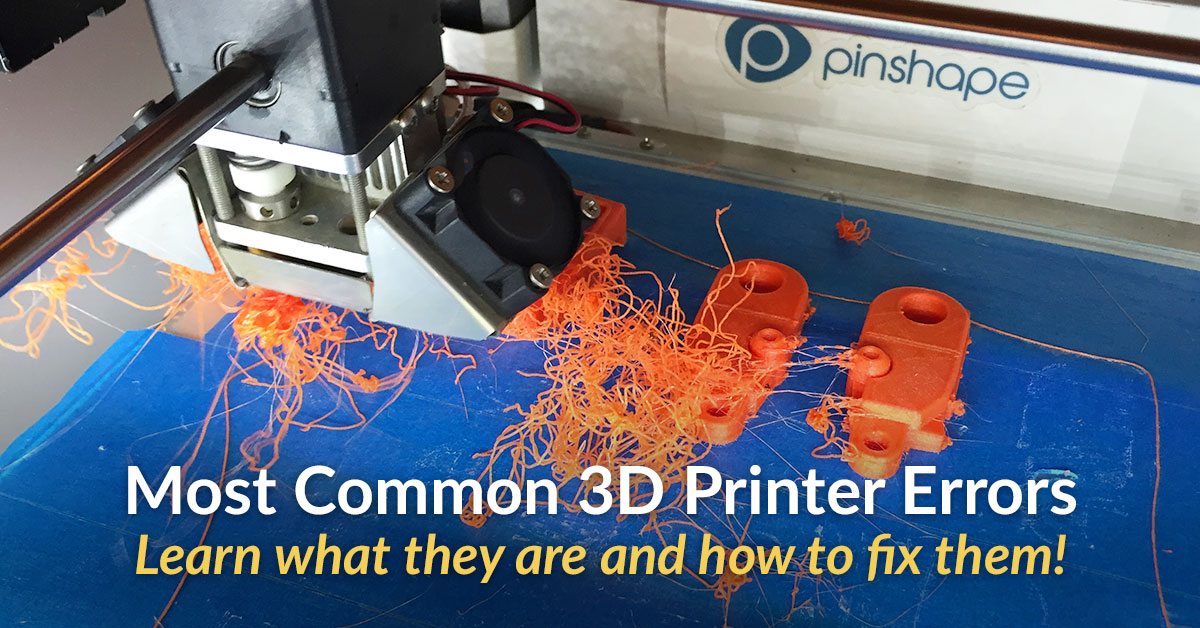fail: (493, 217, 872, 503), (191, 270, 483, 460), (4, 241, 237, 357)
